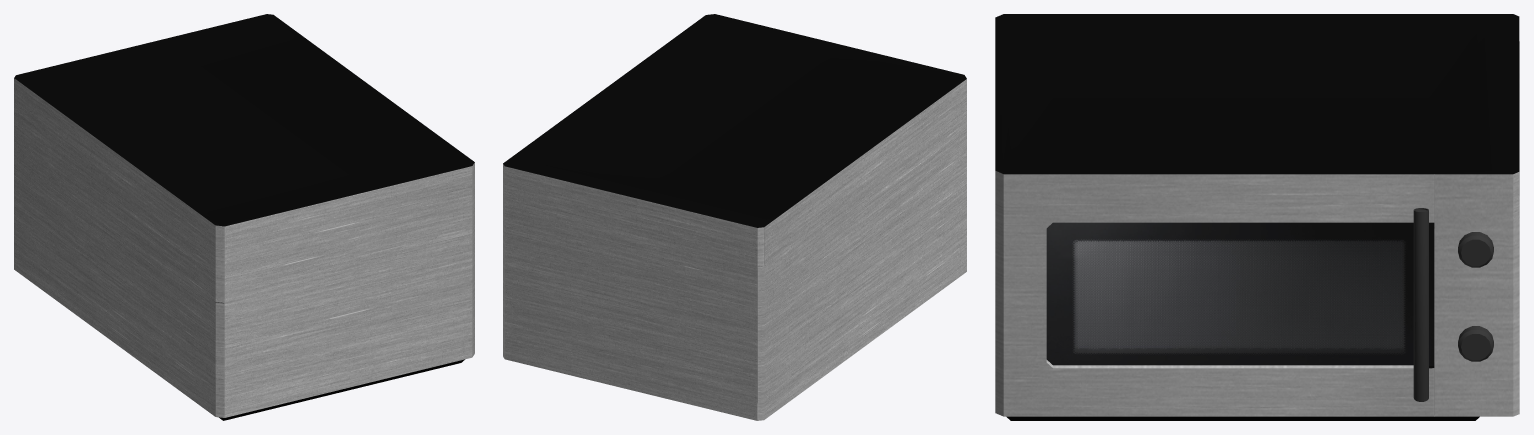
Rendered from Microwave.FBX.
3 renders of one model, left to right at view 1: azimuth 30°, elevation 25°; view 2: azimuth 150°, elevation 25°; view 3: azimuth 270°, elevation 25°, orthographic. The views are drawn at different scales.
Visible parts, largest first — view 1: Box031; view 2: Box031; view 3: Box031, Plane006, Cylinder016, ChamferCyl002.
Part boxes in pixels (x1,y1,x2,y2): Box031: (14, 14, 474, 420); Box031: (503, 14, 966, 420); Box031: (995, 14, 1519, 420); Plane006: (1046, 222, 1434, 365); Cylinder016: (1413, 208, 1428, 401); ChamferCyl002: (1458, 232, 1493, 361).
Size of the model in its own units: 819 by 574 by 1076.
Materials: 3 (2 with a texture image).
